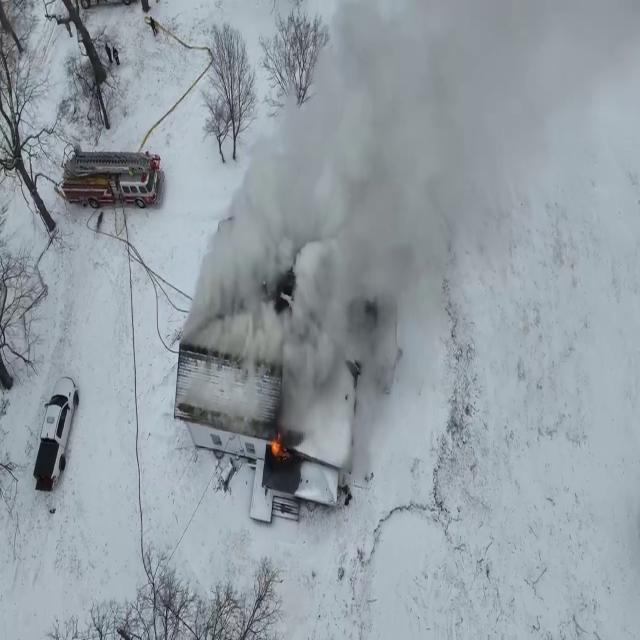Smoke: (181, 1, 541, 460)
